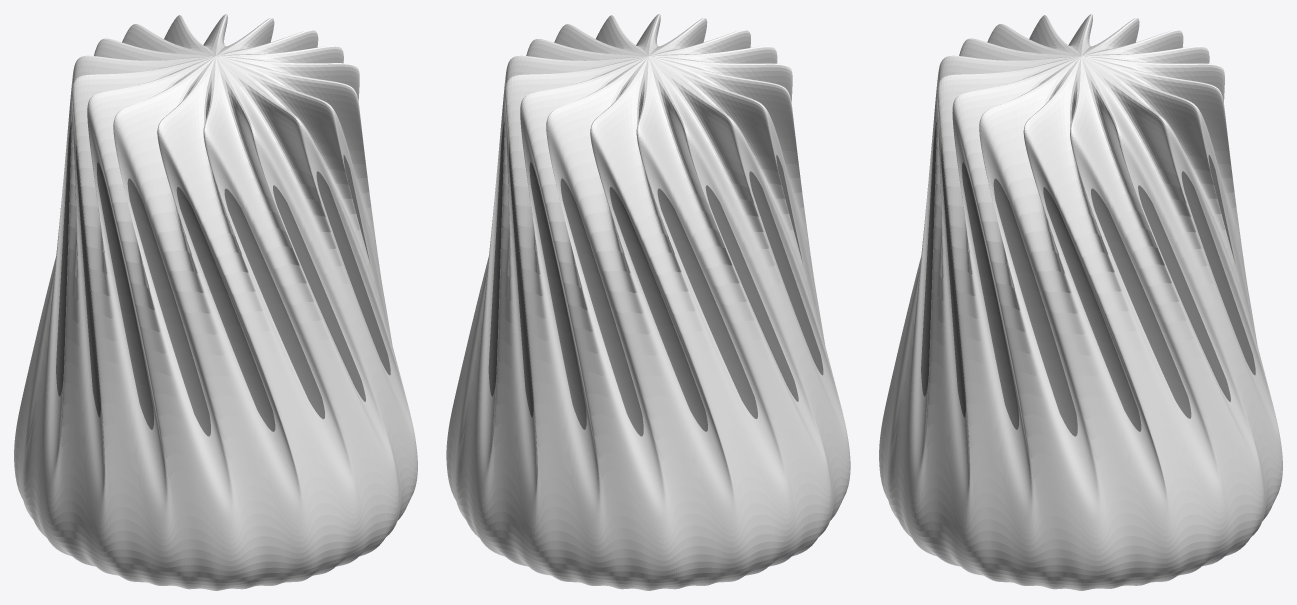
File: chef.fbx
3 renders of one model, left to right at view 1: azimuth 30°, elevation 25°; view 2: azimuth 150°, elevation 25°; view 3: azimuth 270°, elevation 25°, orthographic.
Visible parts, largest first — view 1: Chefhat; view 2: Chefhat; view 3: Chefhat.
Boxes of the visible parts, bbox=[...] form: Chefhat: bbox=[14, 14, 417, 590]; Chefhat: bbox=[446, 14, 850, 590]; Chefhat: bbox=[879, 14, 1282, 590].
Size of the model in its own units: 0.8535 by 1.14 by 0.8546.
